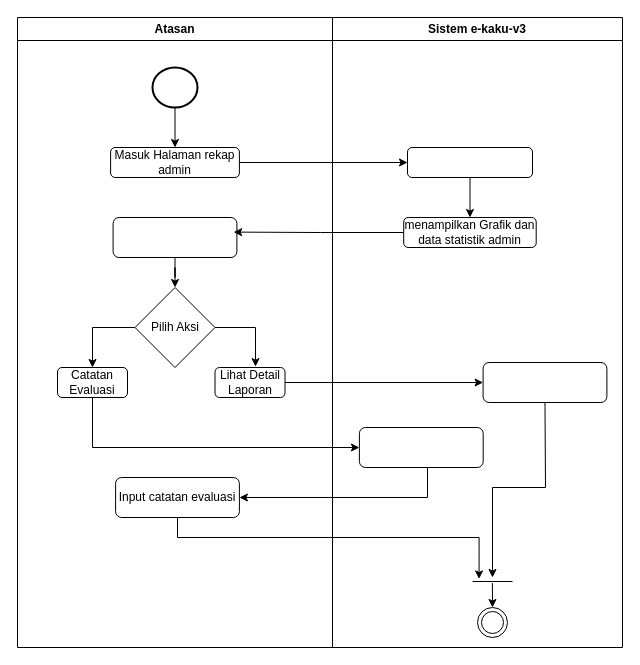
Image size: 640x665. Some labels were removed from this diagram. Each missing label, with the centre of its shape:
Klik Menu Rekap Data admin: (174,237)
Memuat Halaman rekap admin: (469,162)
Menampilkan Form Catatan: (420,447)
Menghasilkan File Laporan: (544,382)
